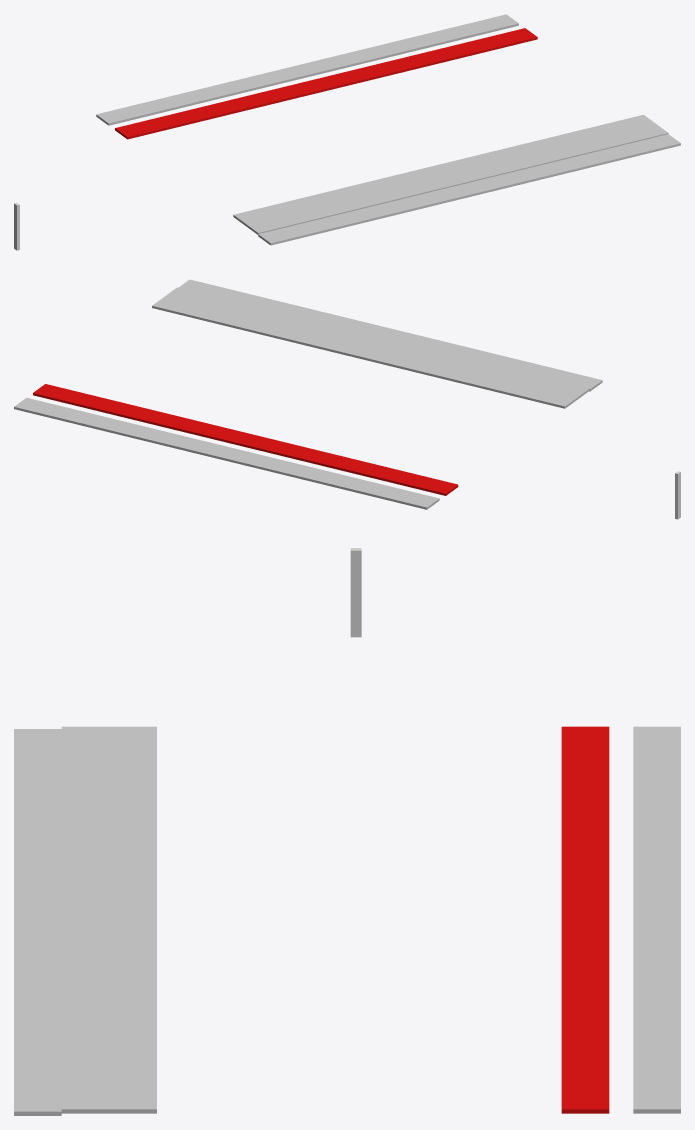
The model's file is Connections.fbx.
3 views of the same model, one above another, from view 1: azimuth 30°, elevation 25°; view 2: azimuth 150°, elevation 25°; view 3: azimuth 270°, elevation 25° (orthographic). The views are drawn at different scales.
Parts seen in each view (by area): view 1: match, mis_match1, mis_match3, mis_match2; view 2: mis_match2, mis_match1, mis_match3, match; view 3: mis_match3, mis_match1, mis_match2, match, Cube.018, sig_driver, Cube.017, Cube.014, Cube.013, Cube.012, Cube.011, Cube.010 (+12 smaller).
Part boxes in pixels (x1,y1,x2,y2): match: (258,134,680,245); mis_match1: (115,28,537,139); mis_match3: (246,124,668,234); mis_match2: (233,114,655,225); mis_match2: (152,296,577,408); mis_match1: (33,384,458,495); mis_match3: (165,287,590,399); match: (179,279,602,391); mis_match3: (61,726,109,1113); mis_match1: (561,726,609,1113); mis_match2: (109,726,156,1113); match: (14,729,61,1115); Cube.018: (633,1089,680,1113); sig_driver: (350,548,361,637); Cube.017: (633,1069,680,1089); Cube.014: (633,1008,680,1028); Cube.013: (633,988,680,1008); Cube.012: (633,968,680,988); Cube.011: (633,948,680,968); Cube.010: (633,928,680,948).
Bounding box in the file's own units: 26.68 × 2 × 14.
